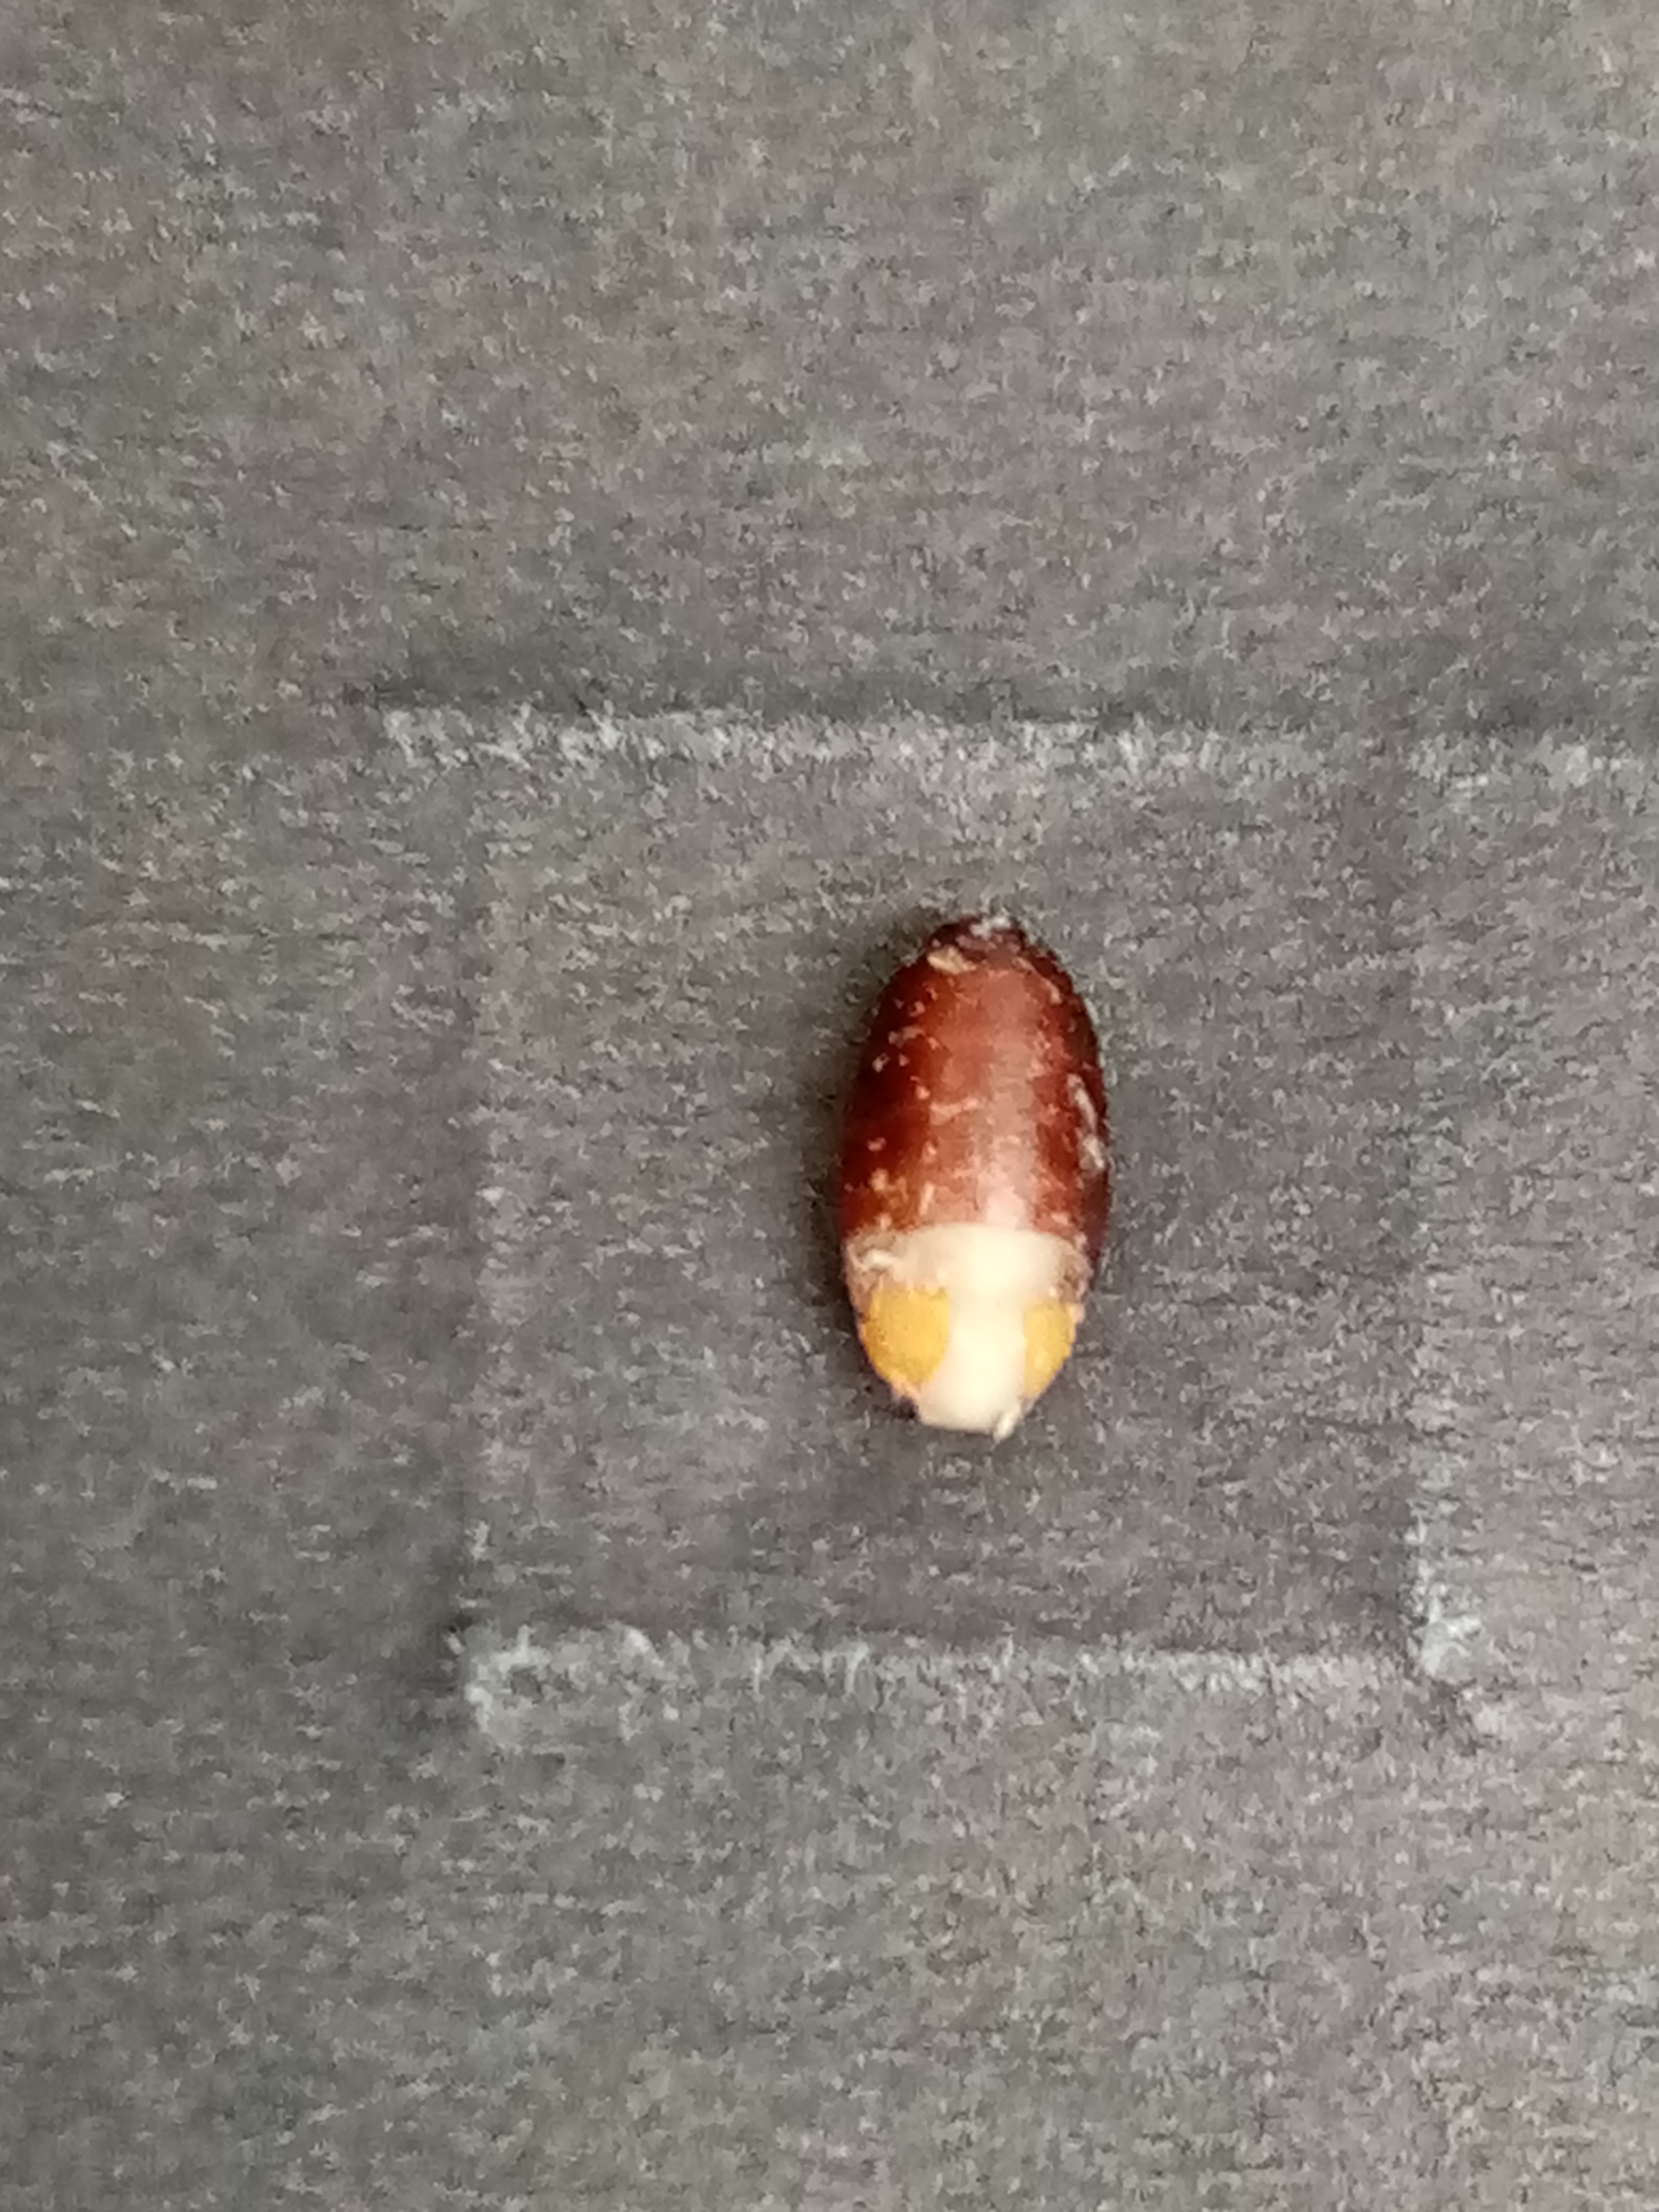pupa: (845, 1247, 1084, 1444)
